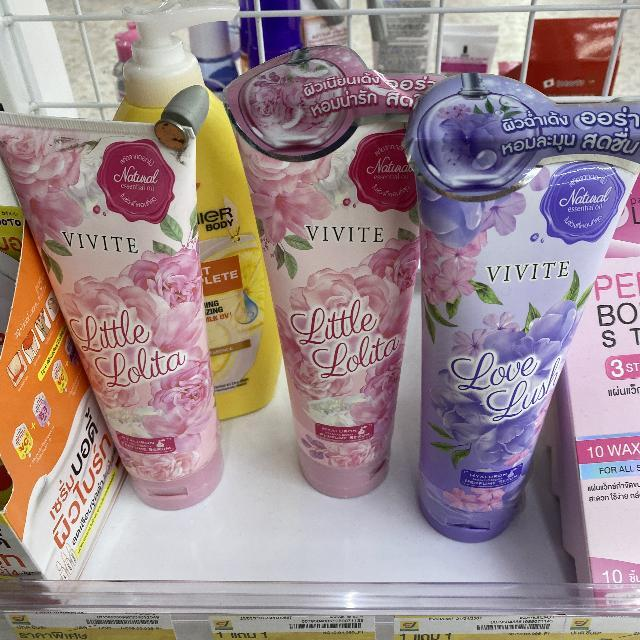Squeeze Tube: (0, 32, 640, 564)
